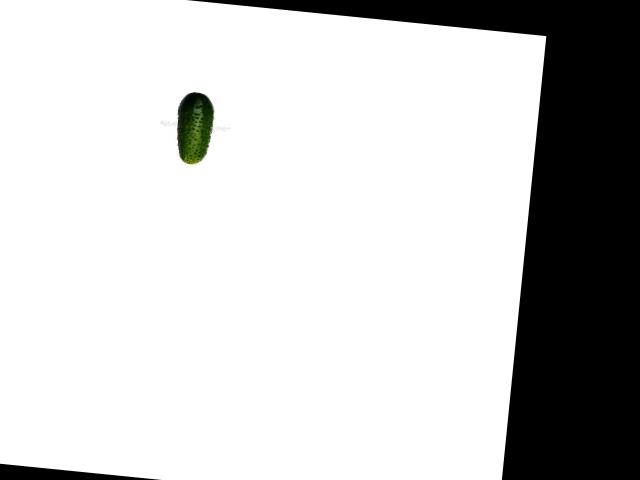cucumber: (173, 90, 217, 166)
